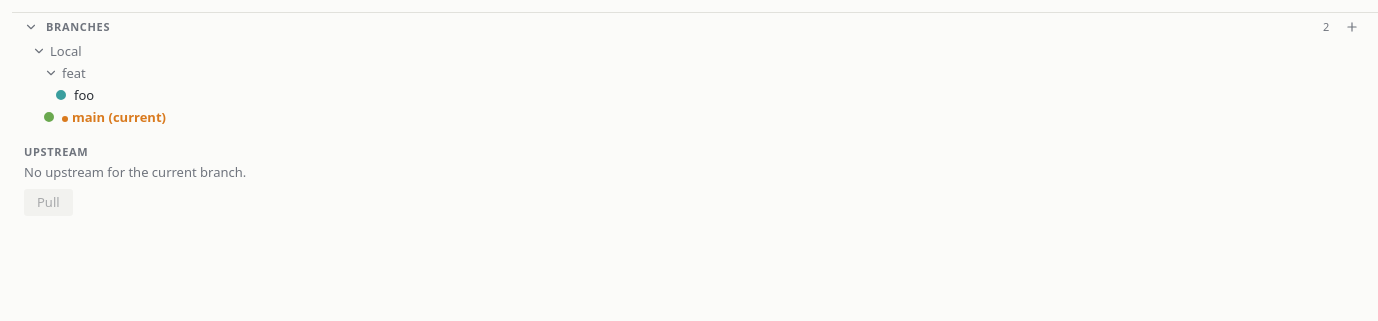
Scenario: BranchTree — local branches › right-clicking a branch opens a context menu with Rename/Delete, and Merge for non-current branches
Right-click the button "foo" at (75, 95), box [56, 86, 94, 104]
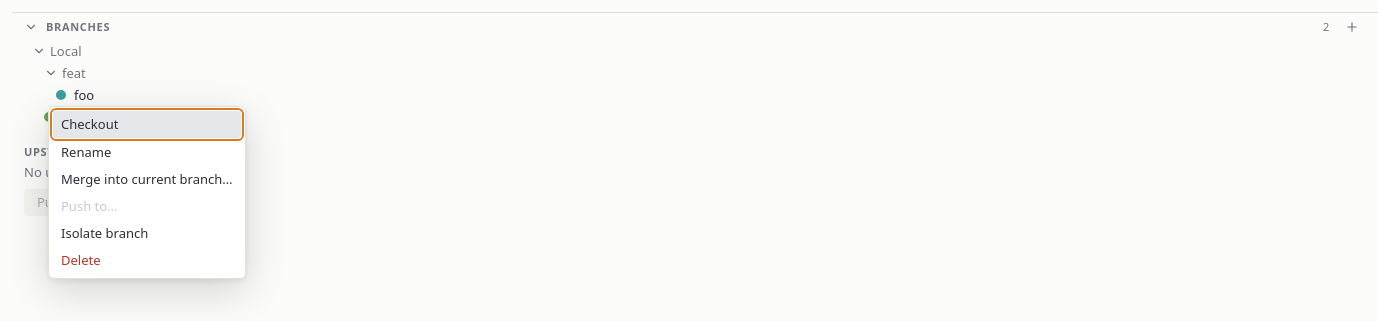
Expected: the menu item "Rename" is shown, [53, 139, 241, 165]
Expected: the menu item "Delete" is shown, [53, 247, 241, 274]
Expected: the menu item "Merge into current branch…" is shown, [53, 166, 241, 192]
